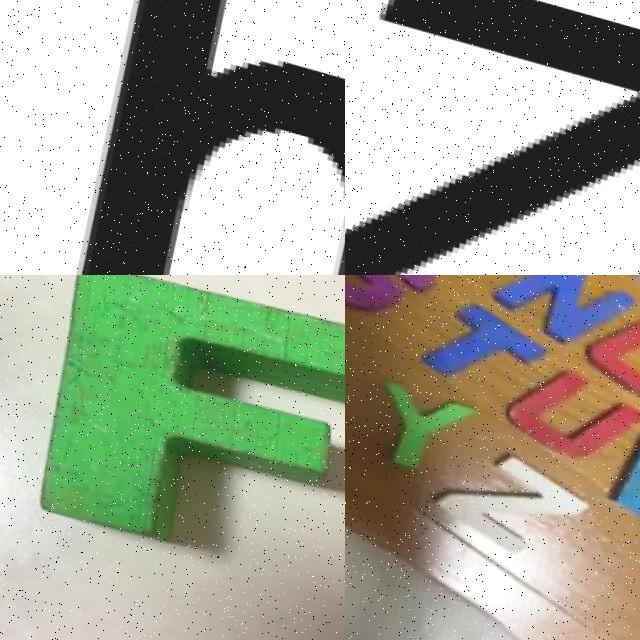F: (15, 275, 345, 600)
H: (35, 0, 345, 275)
N: (480, 275, 636, 351)
O: (583, 294, 640, 402)
S: (345, 275, 440, 322)
T: (417, 285, 554, 396)
U: (506, 351, 640, 466)
V: (613, 417, 640, 522)
Y: (371, 376, 472, 478)
Z: (345, 0, 640, 275), (440, 431, 604, 566)
